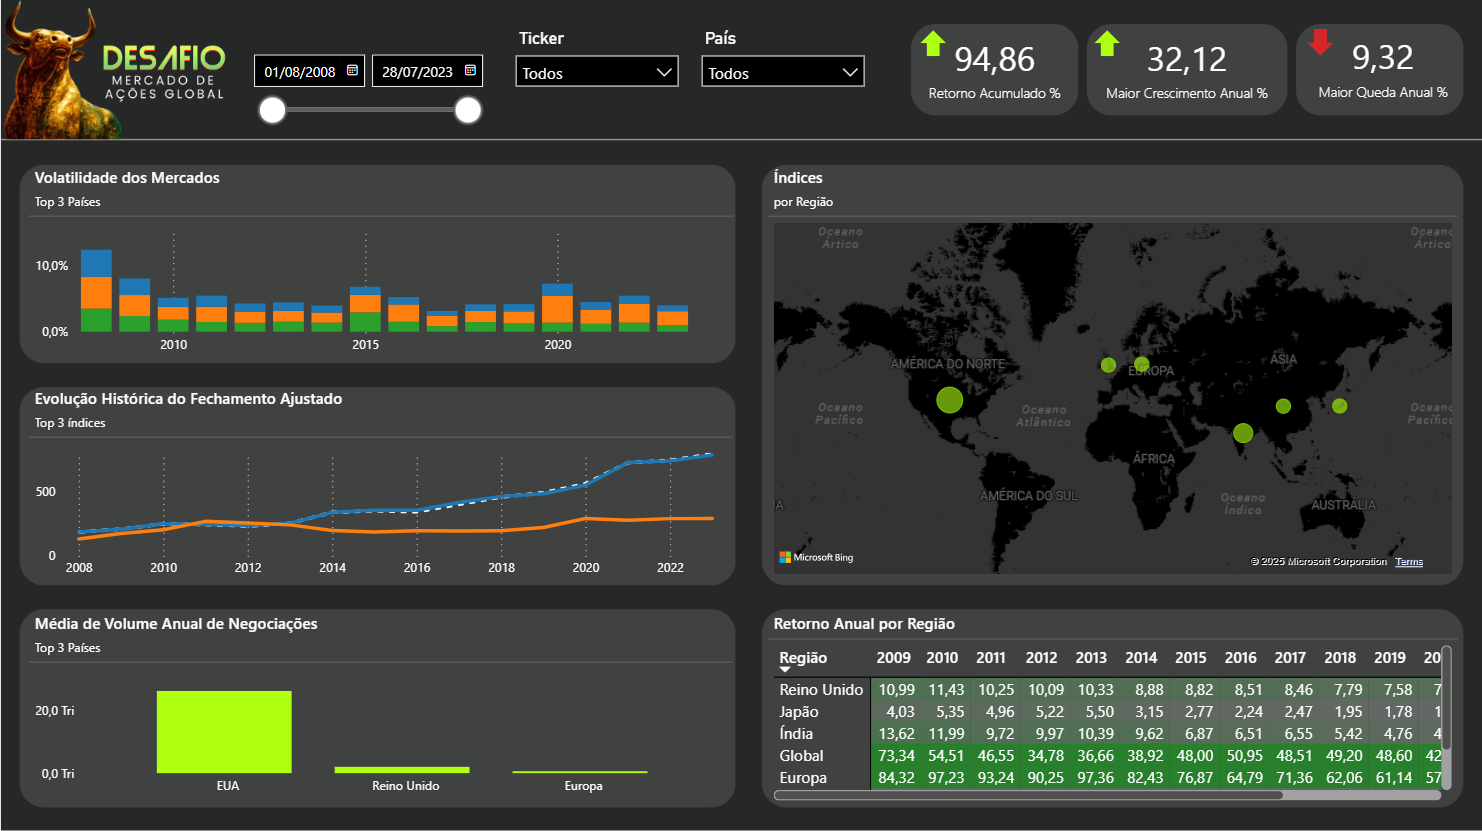

The page's visual inventory and layout, read from the dashboard file:
{"tool":"powerbi","page":{"name":"Dash","canvas":[1280,720],"ordinal":0},"visuals":[{"type":"lineChart","title":"Evolução Histórica do Fechamento Ajustado","fields":{"Category":["Global Stock Market (2008-2023).Date.Variation.Hierarquia de datas.Ano"],"Y":["Global Stock Market (2008-2023).Preço Normalizado"],"Series":["Global Stock Market (2008-2023).Ticker"]},"box":[23.9,335.2,607.6,172.6],"z":0},{"type":"columnChart","title":"Volatilidade dos Mercados","fields":{"Category":["Global Stock Market (2008-2023).Date.Variation.Hierarquia de datas.Ano"],"Y":["Avg(Global Stock Market (2008-2023).Volatilidade %)"],"Series":["tickers_traducao_com_regiao.Região"]},"box":[24.2,144.1,608.8,170.3],"z":1000},{"type":"columnChart","title":"Média de Volume Anual de Negociações","fields":{"Category":["Volume por Ano e Região.Região"],"Y":["Avg(Volume por Ano e Região.Volume Total)"]},"box":[23.9,530,607.5,166.4],"z":2000},{"type":"pivotTable","title":"Retorno Anual por Região","fields":{"Rows":["tickers_traducao_com_regiao.Região"],"Columns":["Global Stock Market (2008-2023).Date.Variation.Hierarquia de datas.Ano"],"Values":["Global Stock Market (2008-2023).Retorno Anual %"]},"box":[663.2,530.1,595.7,166.3],"z":3000},{"type":"map","title":"Índices","fields":{"Category":["tickers_traducao_com_regiao.Região"],"Size":["tickers_traducao_com_regiao.Qtd Índices por Região"]},"box":[662.9,105.1,595.8,395.7],"z":4000},{"type":"card","fields":{"Values":["Global Stock Market (2008-2023).Maior Crescimento Anual %"]},"box":[944.9,20.5,160.7,75.2],"z":5000},{"type":"card","fields":{"Values":["Global Stock Market (2008-2023).Retorno Acumulado %"]},"box":[785.9,25.7,146.4,64.8],"z":6000},{"type":"card","fields":{"Values":["Global Stock Market (2008-2023).Maior Queda Anual %"]},"box":[1114.6,13.4,154.3,91.7],"z":7000},{"type":"slicer","fields":{"Values":["Global Stock Market (2008-2023).Date"]},"box":[226.8,37.6,221.1,82.1],"z":8000},{"type":"slicer","fields":{"Values":["tickers_traducao_com_regiao.Região"]},"box":[613.2,20.5,157.3,66.1],"z":9000},{"type":"slicer","fields":{"Values":["Global Stock Market (2008-2023).Ticker"]},"box":[455.9,20.5,157.3,66.1],"z":10000},{"type":"shape","box":[794.4,26.2,22.8,22.8],"z":11000},{"type":"shape","box":[944.9,26.2,22.8,22.8],"z":12000},{"type":"shape","box":[1126.1,26.2,22.8,22.8],"z":13000}]}

Visuals, with their boxes in screenshot pixels (x1, y1, x2, y2), scaled from the page's 1280x720 canvas onto the 1482x831 screenshot:
"Evolução Histórica do Fechamento Ajustado" lineChart: locate(28, 387, 731, 586)
"Volatilidade dos Mercados" columnChart: locate(28, 166, 733, 363)
"Média de Volume Anual de Negociações" columnChart: locate(28, 612, 731, 804)
"Retorno Anual por Região" pivotTable: locate(768, 612, 1458, 804)
"Índices" map: locate(768, 121, 1457, 578)
card - Global Stock Market (2008-2023).Maior Crescimento Anual %: locate(1094, 24, 1280, 110)
card - Global Stock Market (2008-2023).Retorno Acumulado %: locate(910, 30, 1079, 104)
card - Global Stock Market (2008-2023).Maior Queda Anual %: locate(1290, 15, 1469, 121)
slicer - Global Stock Market (2008-2023).Date: locate(263, 43, 519, 138)
slicer - tickers_traducao_com_regiao.Região: locate(710, 24, 892, 100)
slicer - Global Stock Market (2008-2023).Ticker: locate(528, 24, 710, 100)
shape: locate(920, 30, 946, 57)
shape: locate(1094, 30, 1120, 57)
shape: locate(1304, 30, 1330, 57)
